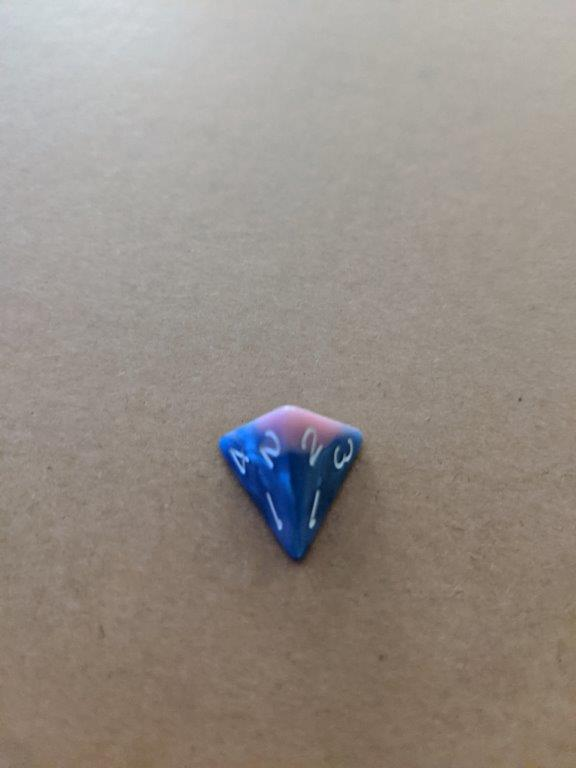d4-2: (211, 401, 370, 568)
